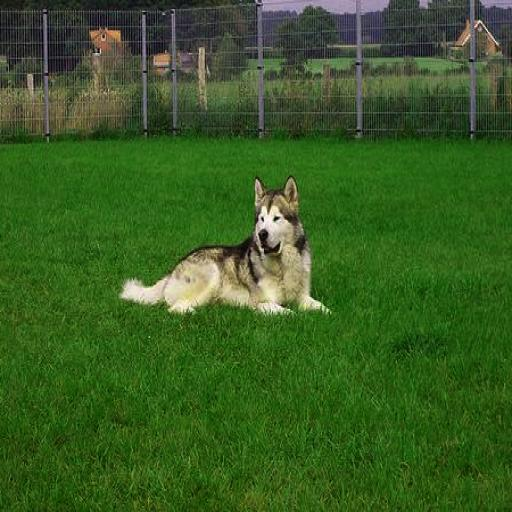dog_face: (248, 170, 306, 260)
